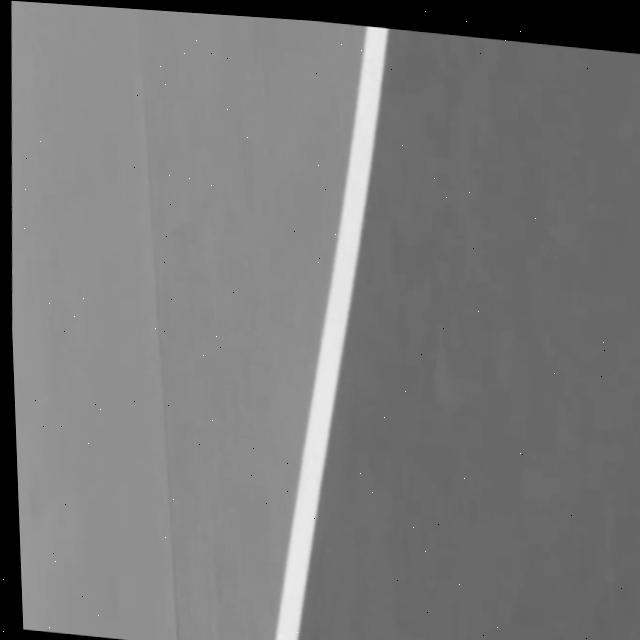left: (274, 26, 387, 640)
